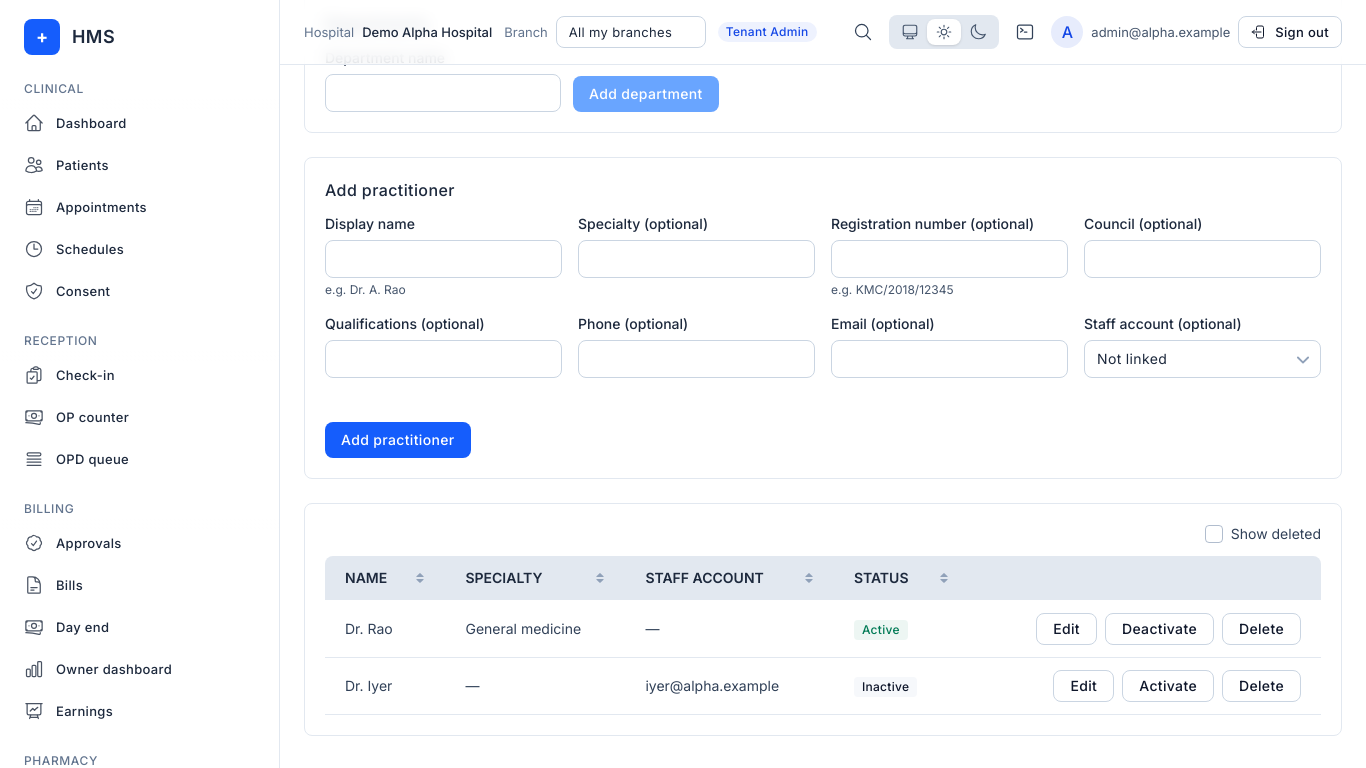
Test: Practitioners admin › confirms a delete and explains the 409 for open appointments
(page scrolled)
Click the button with aria-label "Delete Dr. Rao".
click(1262, 629)  # box [1222,613,1301,645]
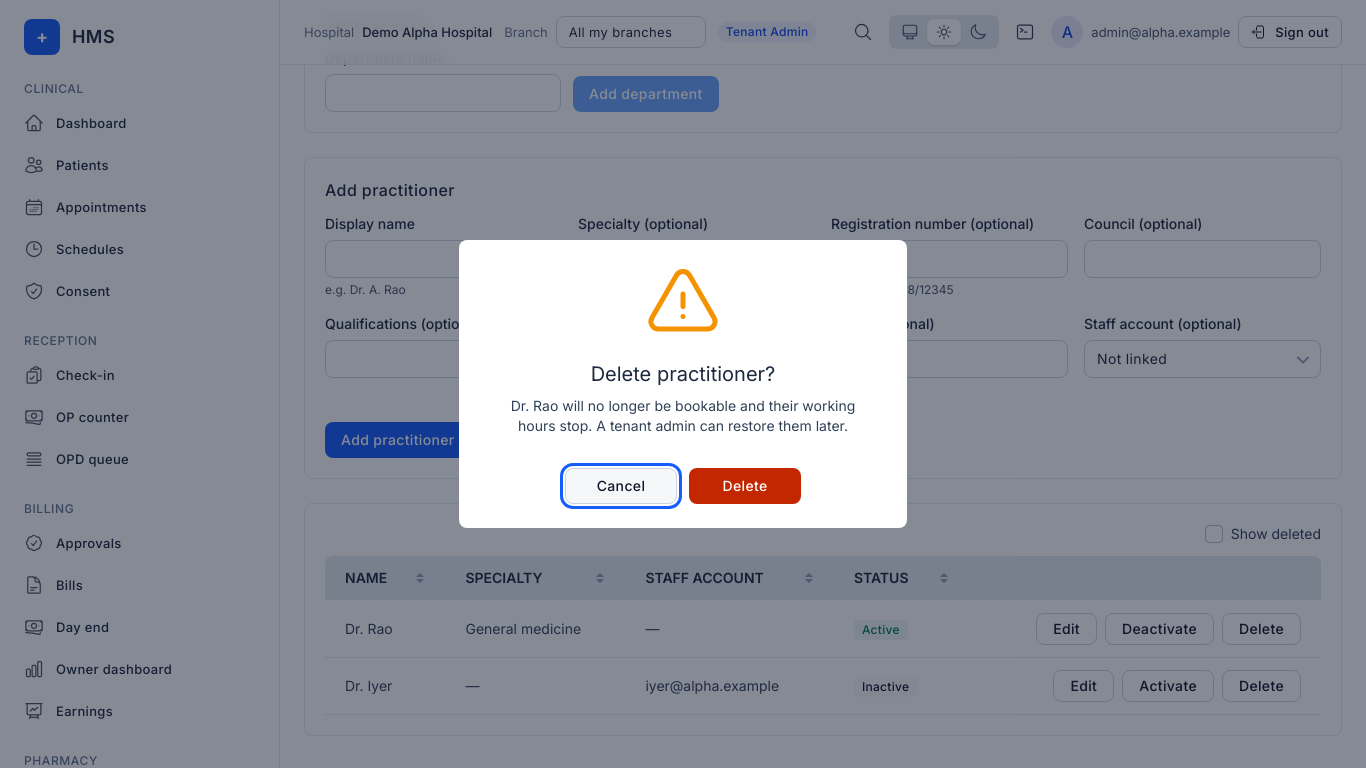
Click the button "Delete".
click(745, 486)  # box [689,468,801,504]
(page scrolled)
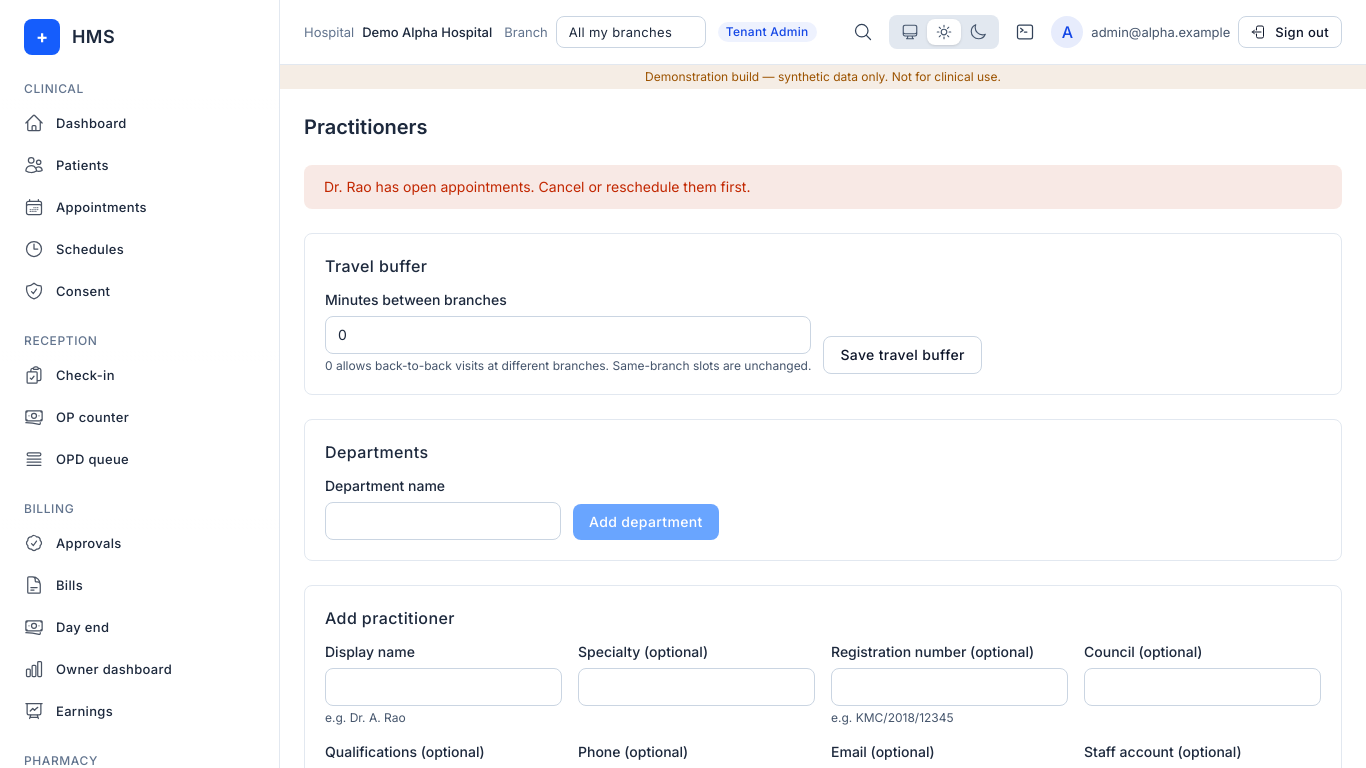
Check: the text "Dr. Rao has open appointments. Cancel or reschedule them first." is shown, box [304,165,1342,209]
Check: the dialog is gone
